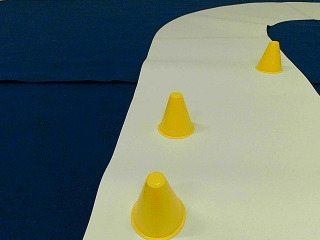cone: (130, 172, 185, 237), (159, 93, 195, 137), (256, 41, 282, 73)
